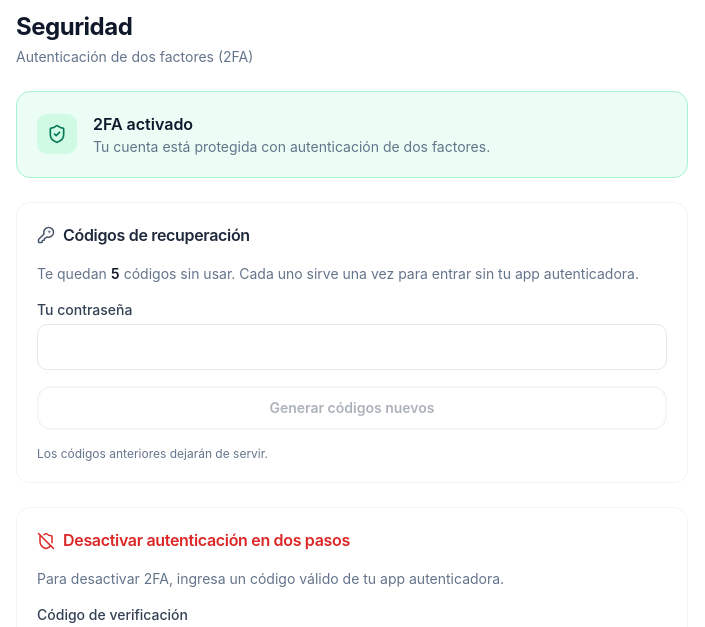
Test: DosFactoresPage — códigos de recuperación (B8) › muestra el error si la contraseña no es correcta
In the password field labelled "Tu contraseña": (352, 347) left=37, top=324, right=667, bottom=370, type "mala"
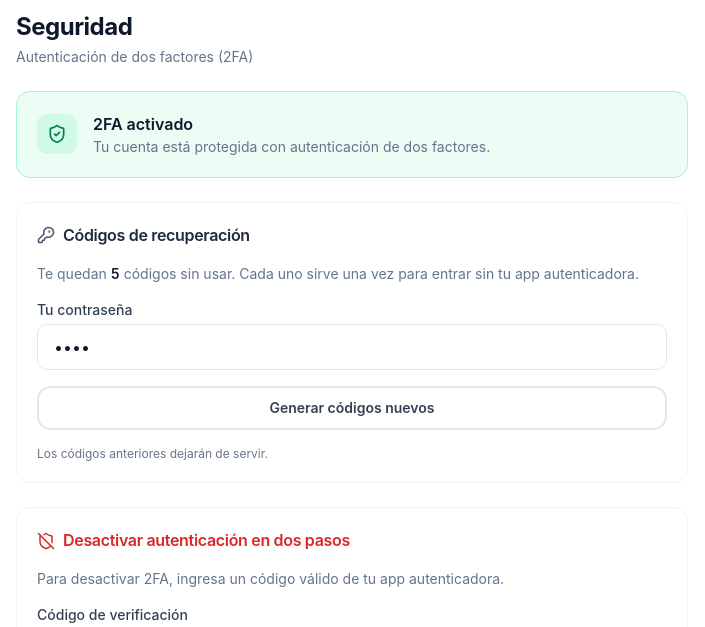
Click the button "Generar códigos nuevos": (352, 408) left=37, top=386, right=667, bottom=430
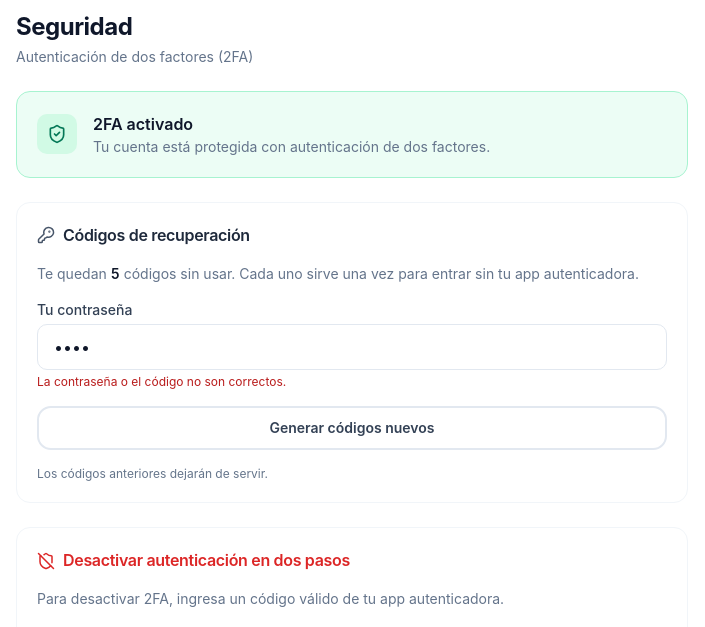
Now the text "La contraseña o el código no son correctos." is shown, box left=37, top=374, right=286, bottom=389
